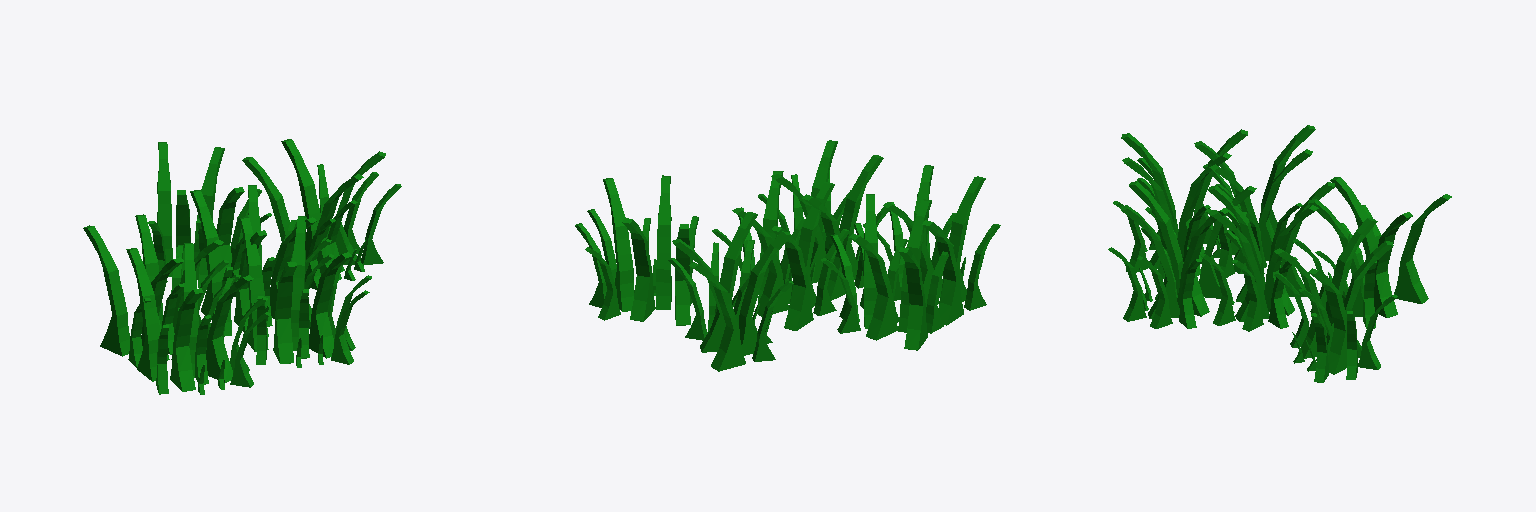
Rendered from grass.obj.
The picture shows the model from 3 angles: view 1: azimuth 30°, elevation 25°; view 2: azimuth 150°, elevation 25°; view 3: azimuth 270°, elevation 25°; orthographic projection.
Parts seen in each view (by area): view 1: Grass_Mesh.008; view 2: Grass_Mesh.008; view 3: Grass_Mesh.008.
Part boxes in pixels (left/top/right/bottom): Grass_Mesh.008: left=83, top=139, right=401, bottom=394; Grass_Mesh.008: left=575, top=140, right=1000, bottom=371; Grass_Mesh.008: left=1108, top=125, right=1451, bottom=382.
Size of the model in its own units: 0.4842 by 0.1577 by 0.4447.